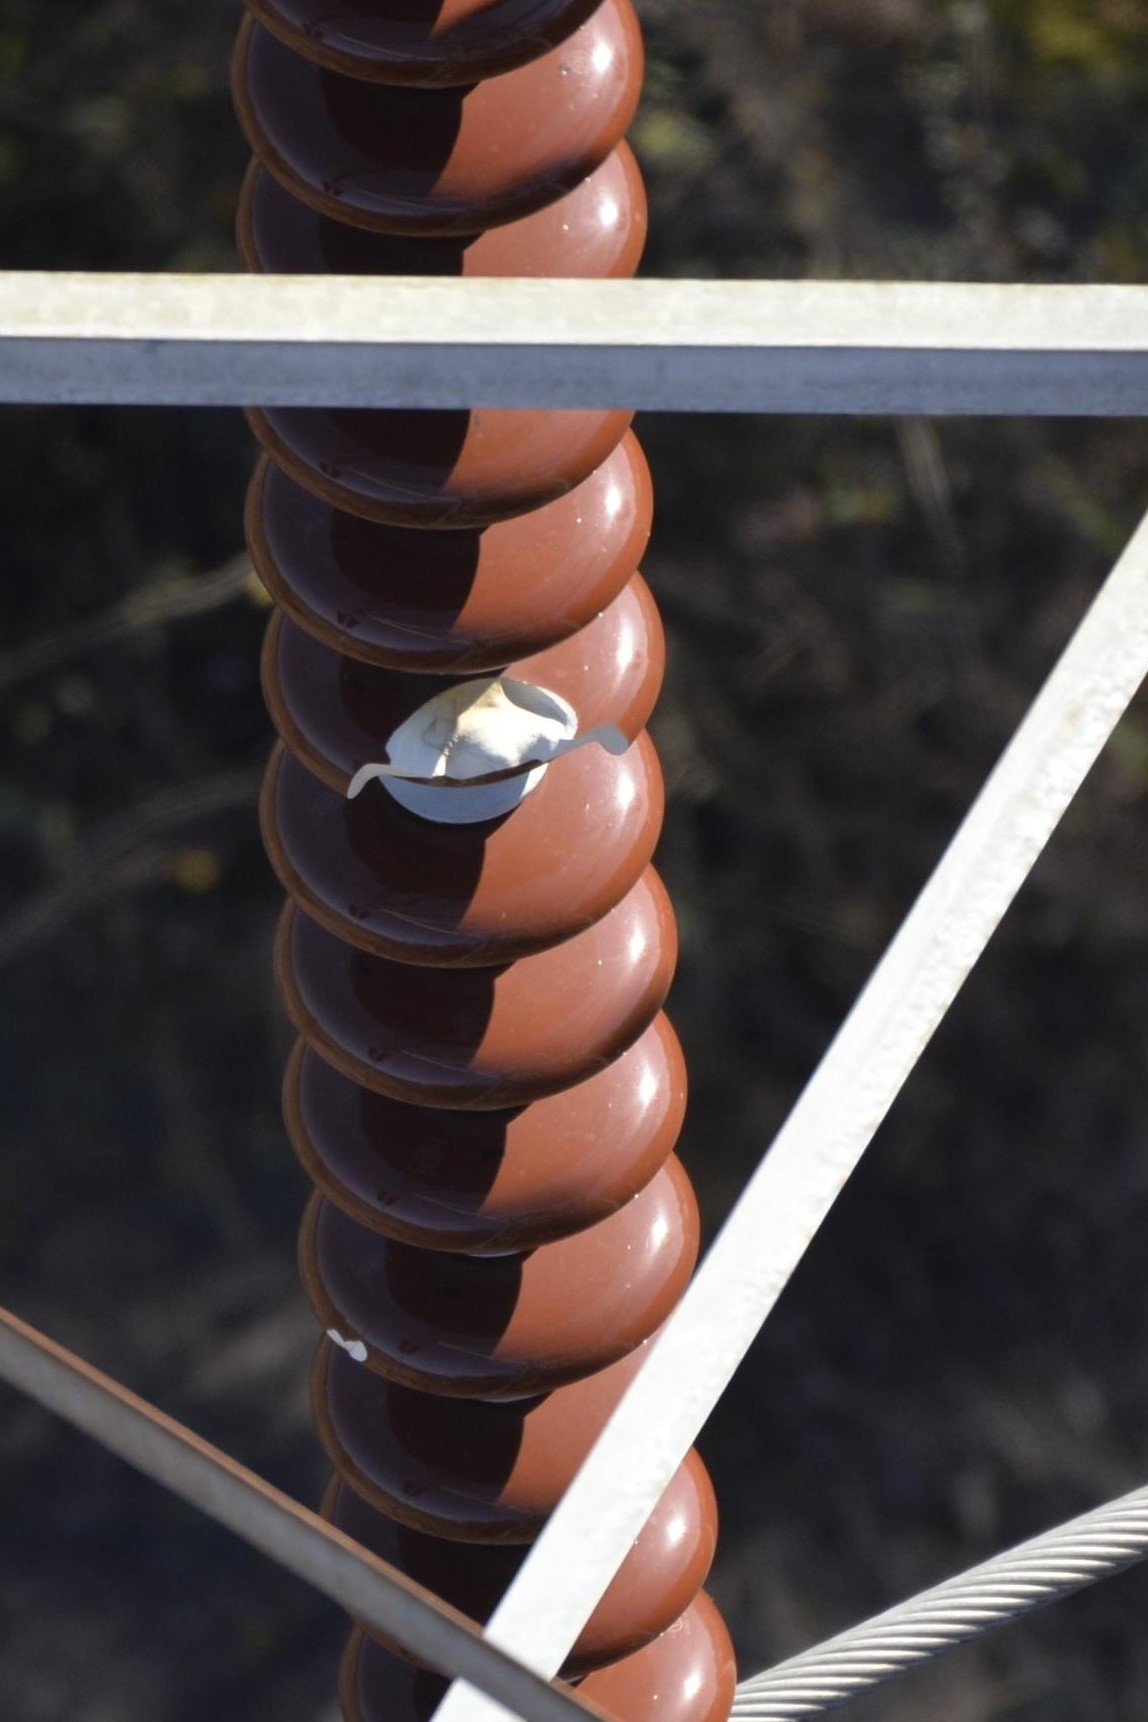insulator breakage: (229, 577, 675, 817)
